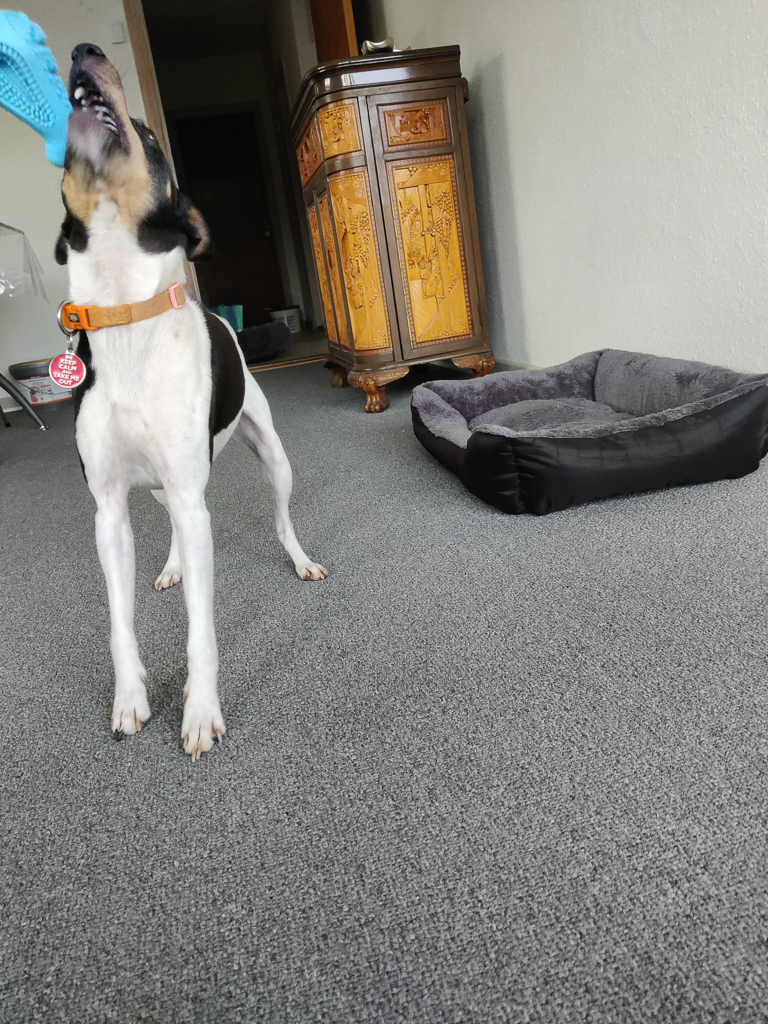Dog: (35, 33, 361, 784)
